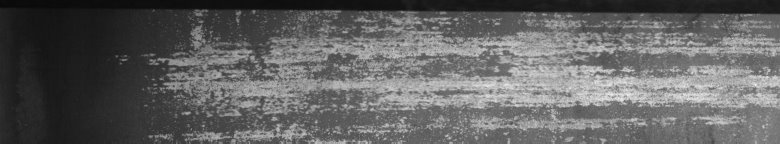kb: (125, 0, 776, 144)
